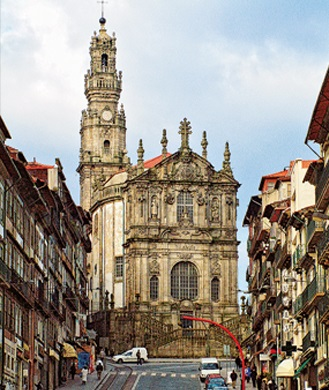clerigos: (75, 0, 128, 211)
